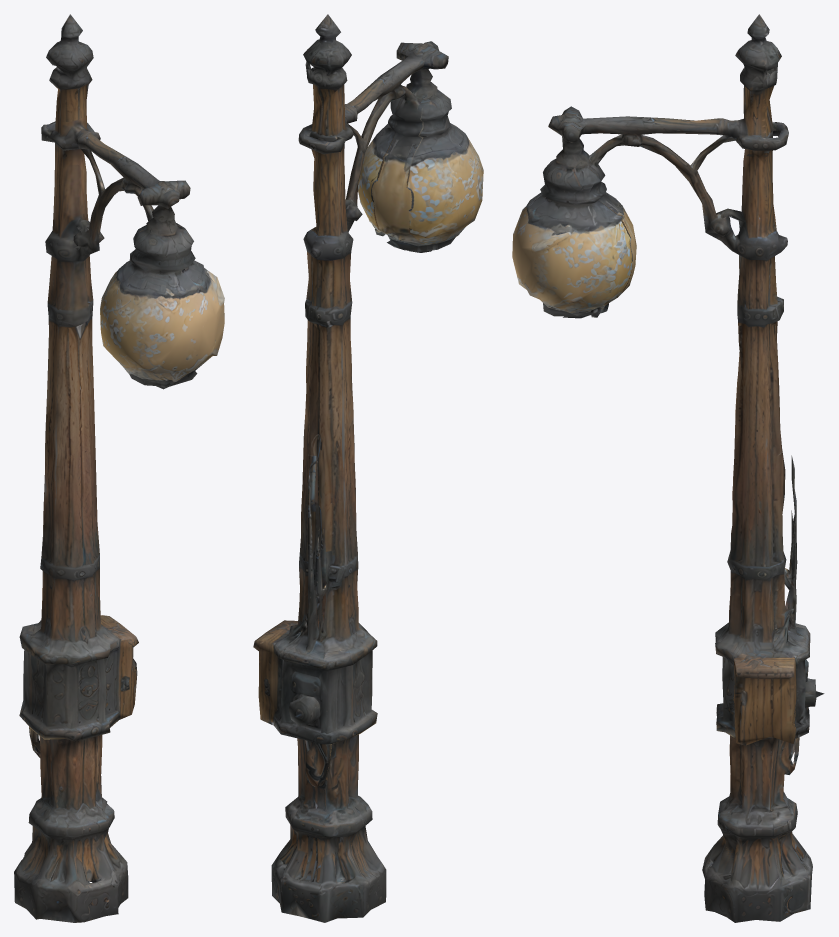
The model's file is PR_ElectricLamp_02.fbx.
3 renders of one model, left to right at view 1: azimuth 30°, elevation 25°; view 2: azimuth 150°, elevation 25°; view 3: azimuth 270°, elevation 25°, orthographic.
Parts seen in each view (by area): view 1: texture_mapping; view 2: texture_mapping; view 3: texture_mapping.
Boxes of the visible parts, x1,y1,x2,y2 form: texture_mapping: (14,14,224,922); texture_mapping: (253,14,483,922); texture_mapping: (512,14,824,922).
Size of the model in its own units: 0.1349 by 0.319 by 0.9997.
1 material, 1 textured.
